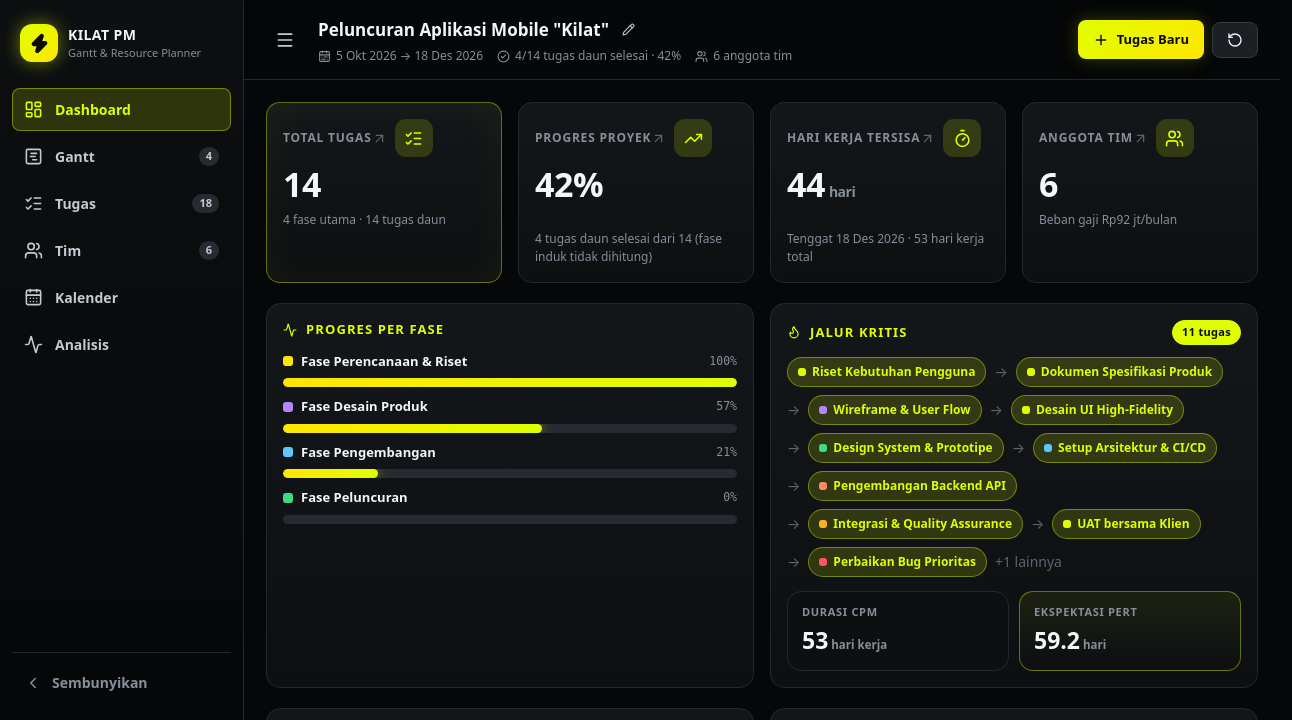
Test: AnalysisPage — legenda diagram PERT › menjelaskan ES, EF, LS, LF, Float, Te, dan CP dengan tooltip
This screenshot has width=1292, height=720.
Click the button "Analisis" at point(122, 344), box [12,323,231,366]
(page scrolled)
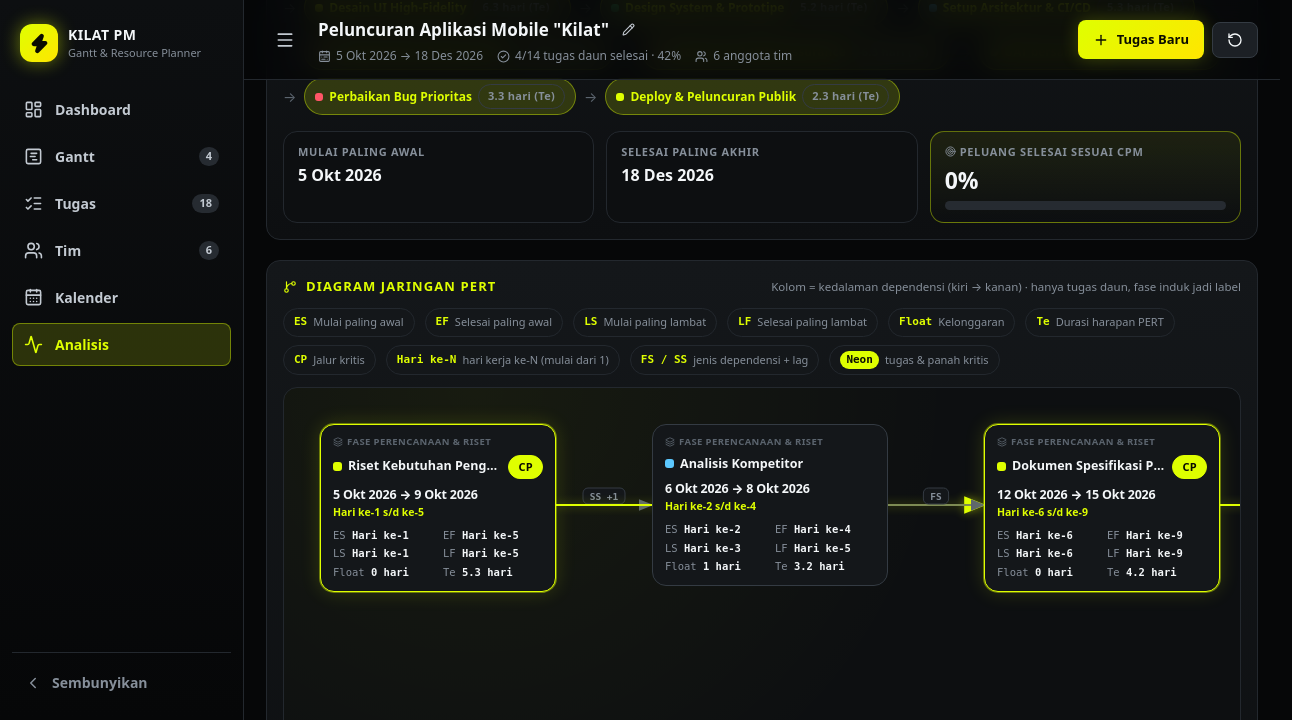
Result: the text "ES" is shown at [294,314,307,331]
Result: the text "EF" is shown at [436,314,449,331]
Result: the text "LS" is shown at [584,314,597,331]
